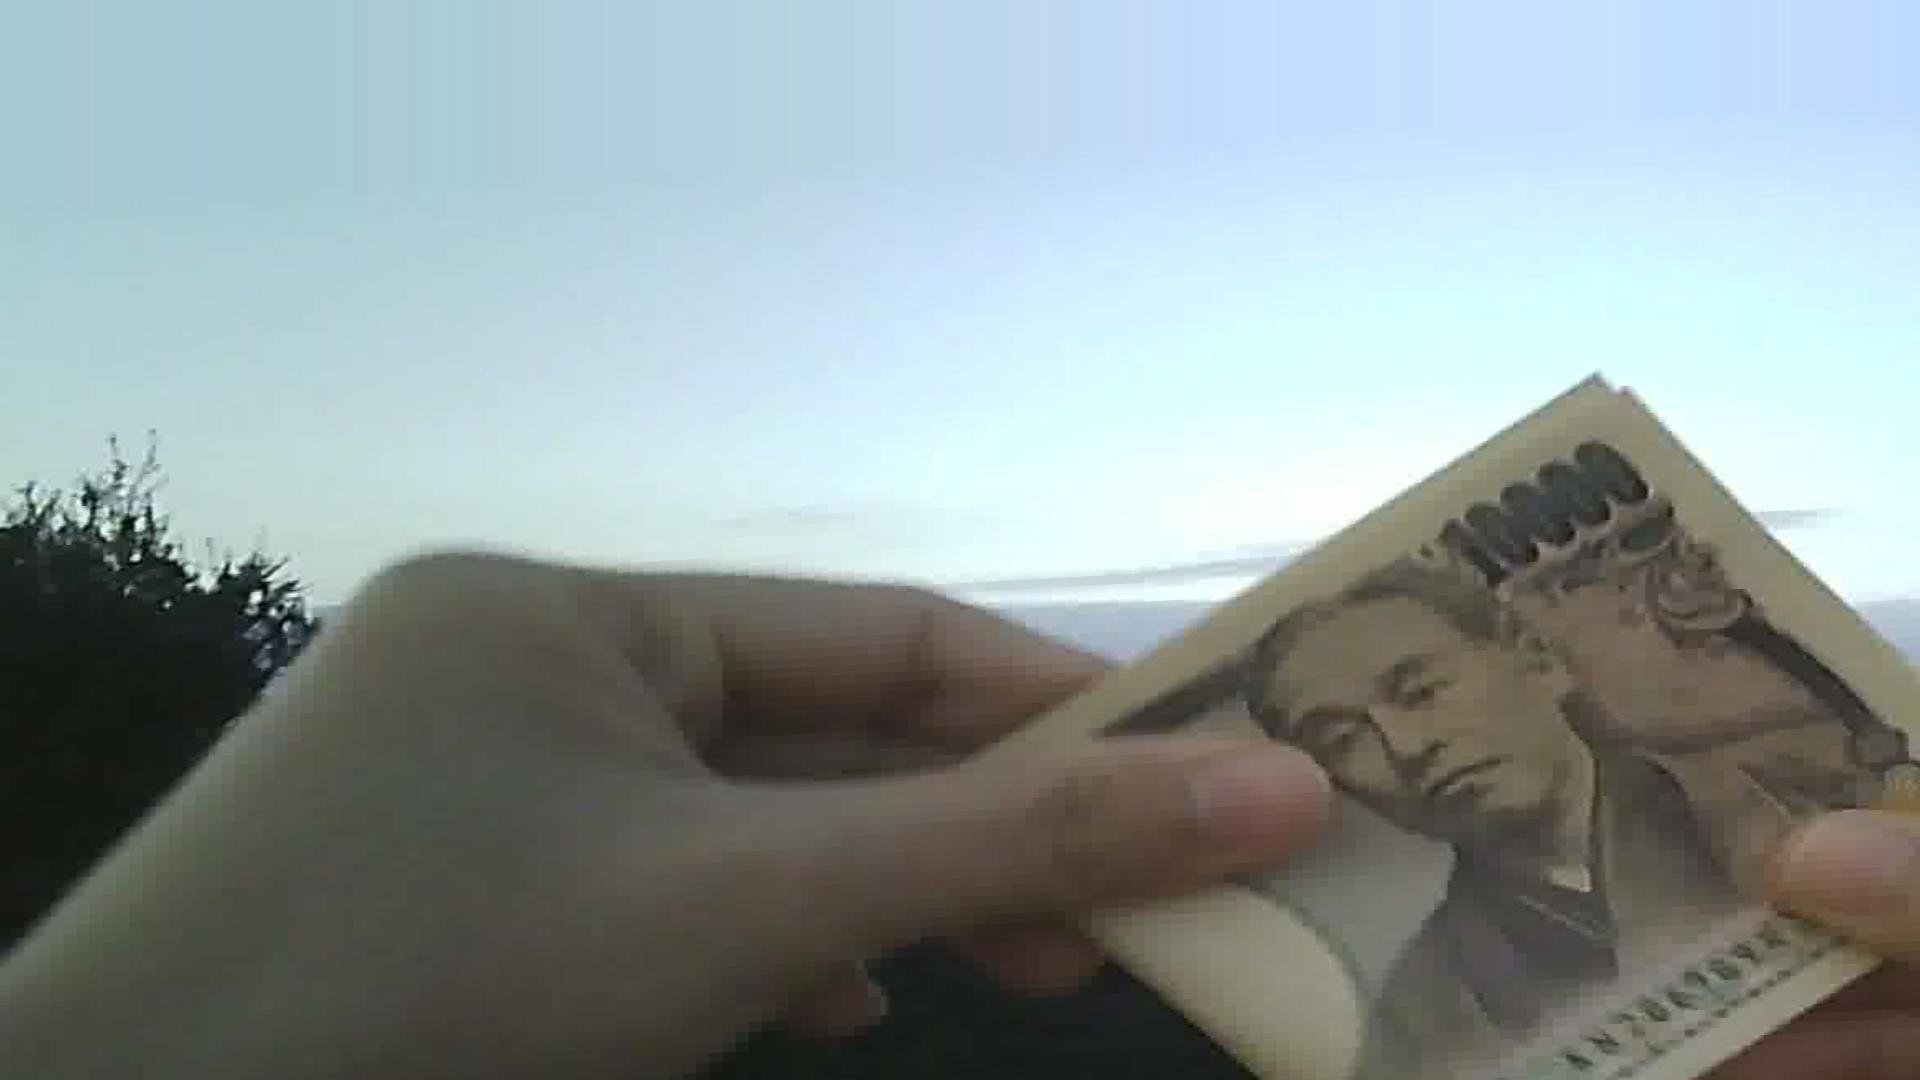10,000 Yen: (886, 369, 1863, 1073)
